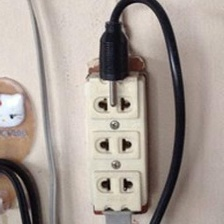three_eye_plug: (80, 64, 153, 216)
